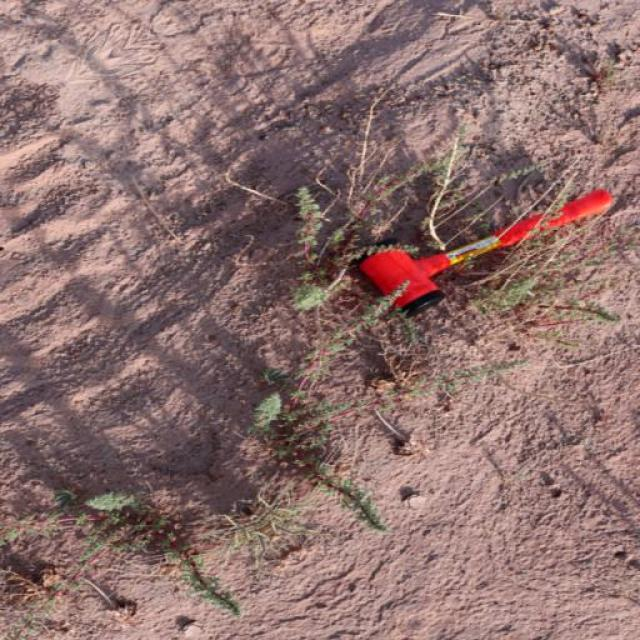mallet: (358, 185, 616, 316)
